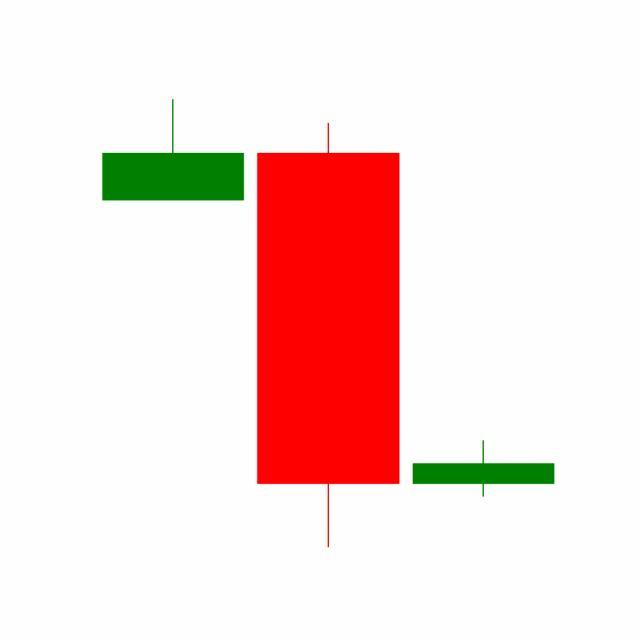Gravestone Doji: (406, 440, 562, 499)
